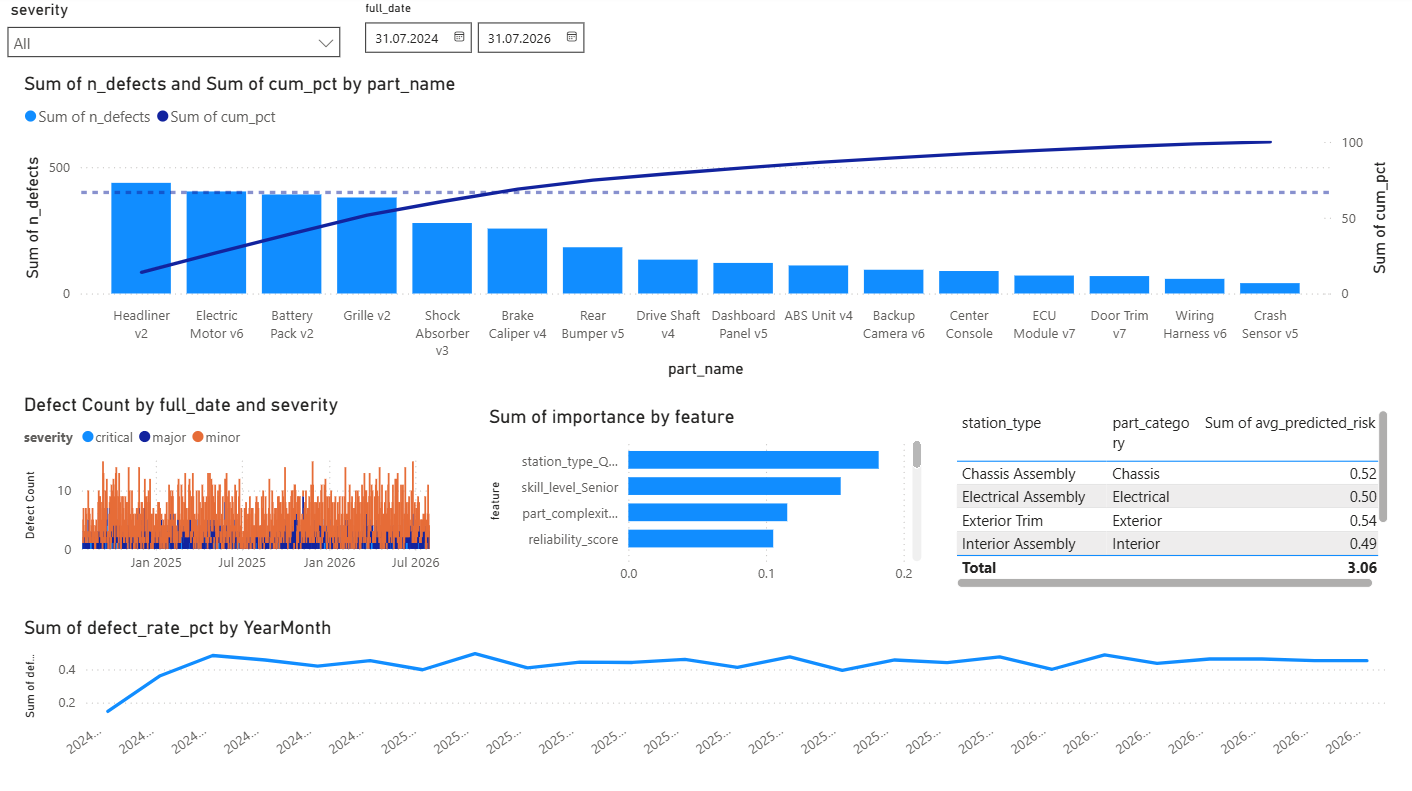

What the dashboard file says about the page in this screenshot:
{"tool":"powerbi","page":{"name":"Page 3","canvas":[1280,720],"ordinal":2},"visuals":[{"type":"slicer","fields":{"Values":["defect_pareto.severity"]},"box":[0,0,320,60],"z":0},{"type":"slicer","fields":{"Values":["dim_date.full_date"]},"box":[320,0,960,60],"z":1000},{"type":"lineClusteredColumnComboChart","fields":{"Category":["defect_pareto_by_part.part_name"],"Y":["Sum(defect_pareto_by_part.n_defects)"],"Y2":["Sum(defect_pareto_by_part.cum_pct)"]},"box":[20,70,1240,280],"z":2000},{"type":"columnChart","fields":{"Category":["dim_date.full_date"],"Y":["_Measures.Defect Count"],"Series":["defect_pareto.severity"]},"box":[20,360,400,170],"z":3000},{"type":"clusteredBarChart","fields":{"Category":["defect_feature_importance.feature"],"Y":["Sum(defect_feature_importance.importance)"]},"box":[440,370,400,170],"z":4000},{"type":"tableEx","fields":{"Values":["high_risk_combinations.station_type","high_risk_combinations.part_category","Sum(high_risk_combinations.avg_predicted_risk)"]},"box":[860,370,400,170],"z":5000},{"type":"lineChart","fields":{"Category":["defect_trend_monthly.YearMonth"],"Y":["Sum(defect_trend_monthly.defect_rate_pct)"]},"box":[20,560,1240,140],"z":6000}]}

Visuals, with their boxes in screenshot pixels (x1, y1, x2, y2), scaled from the page's 1280x720 canvas onto the 1412x791 screenshot:
slicer - defect_pareto.severity: <bbox>0, 0, 353, 66</bbox>
slicer - dim_date.full_date: <bbox>353, 0, 1411, 66</bbox>
lineClusteredColumnComboChart - defect_pareto_by_part.part_name x Sum(defect_pareto_by_part.n_defects): <bbox>22, 77, 1390, 385</bbox>
columnChart - dim_date.full_date x _Measures.Defect Count: <bbox>22, 396, 463, 582</bbox>
clusteredBarChart - defect_feature_importance.feature x Sum(defect_feature_importance.importance): <bbox>485, 406, 927, 593</bbox>
tableEx - high_risk_combinations.station_type x high_risk_combinations.part_category: <bbox>949, 406, 1390, 593</bbox>
lineChart - defect_trend_monthly.YearMonth x Sum(defect_trend_monthly.defect_rate_pct): <bbox>22, 615, 1390, 769</bbox>
